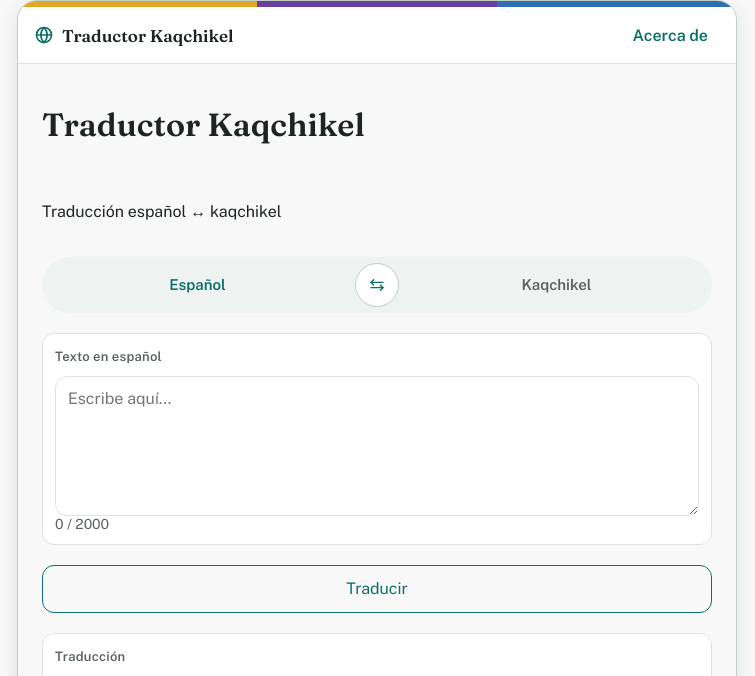
Test: App translate flow › shows a rate-limited error message for a 429 response
The width and height of the screenshot is (755, 676).
Type "Hola" into the text box named "Texto en " at (377, 446), box x1=55 y1=376 x2=699 y2=516
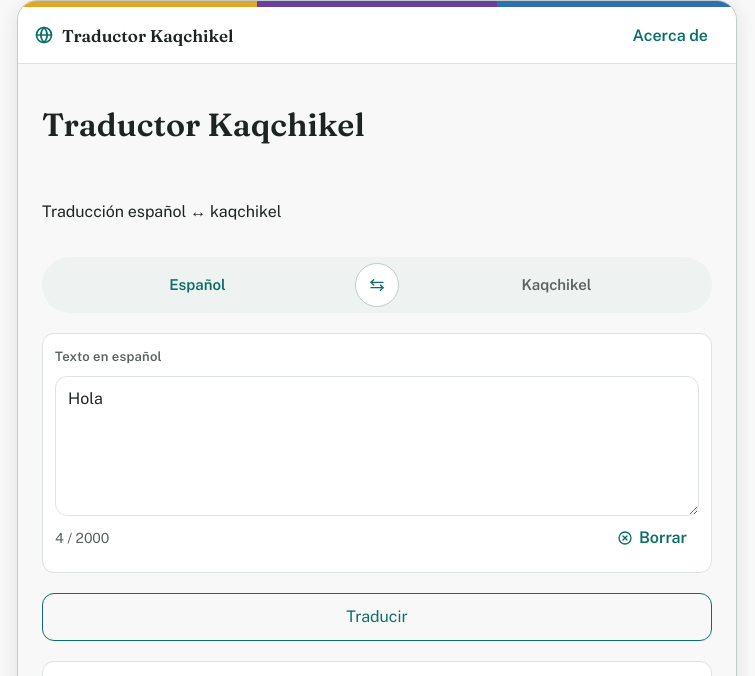
Click the button "Traducir" at (377, 617), box x1=42 y1=593 x2=712 y2=641
(page scrolled)
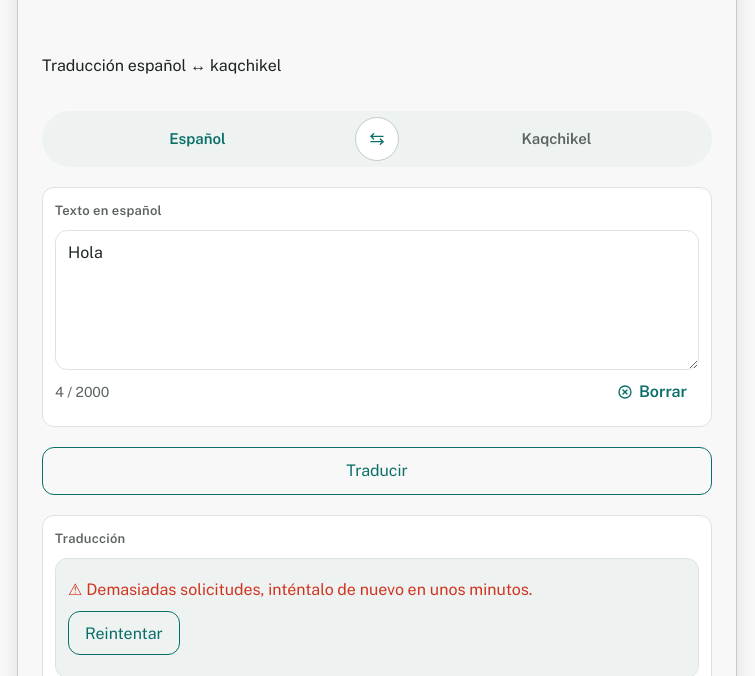
expect the text "Demasiadas solicitudes, inténtalo de nuevo en unos minutos." is shown: met, box x1=86 y1=580 x2=532 y2=599
